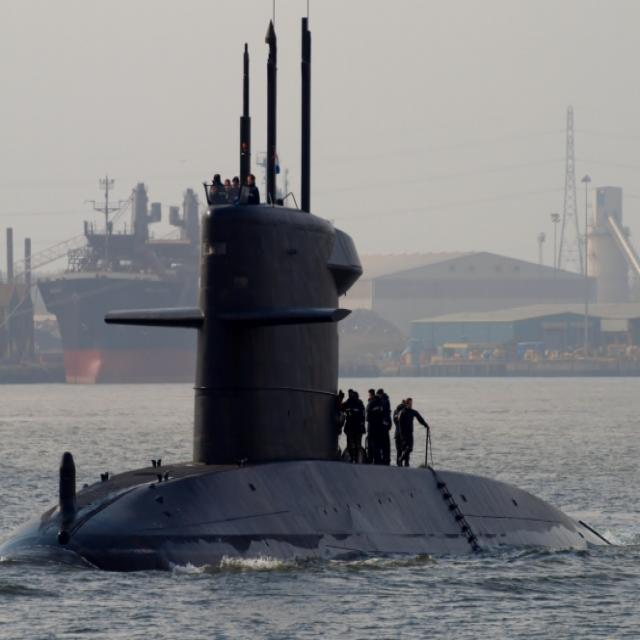submarine: (1, 201, 594, 568)
